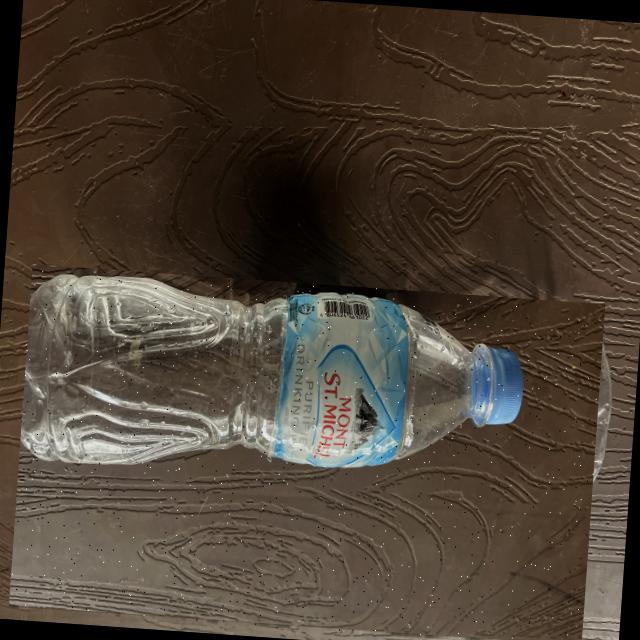REJECT: (6, 263, 603, 640)
